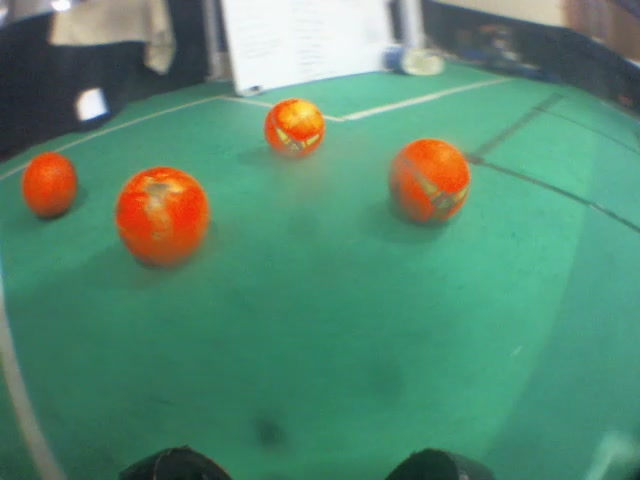ball: (107, 168, 221, 274), (380, 135, 472, 236), (16, 149, 83, 223), (261, 94, 326, 164)
